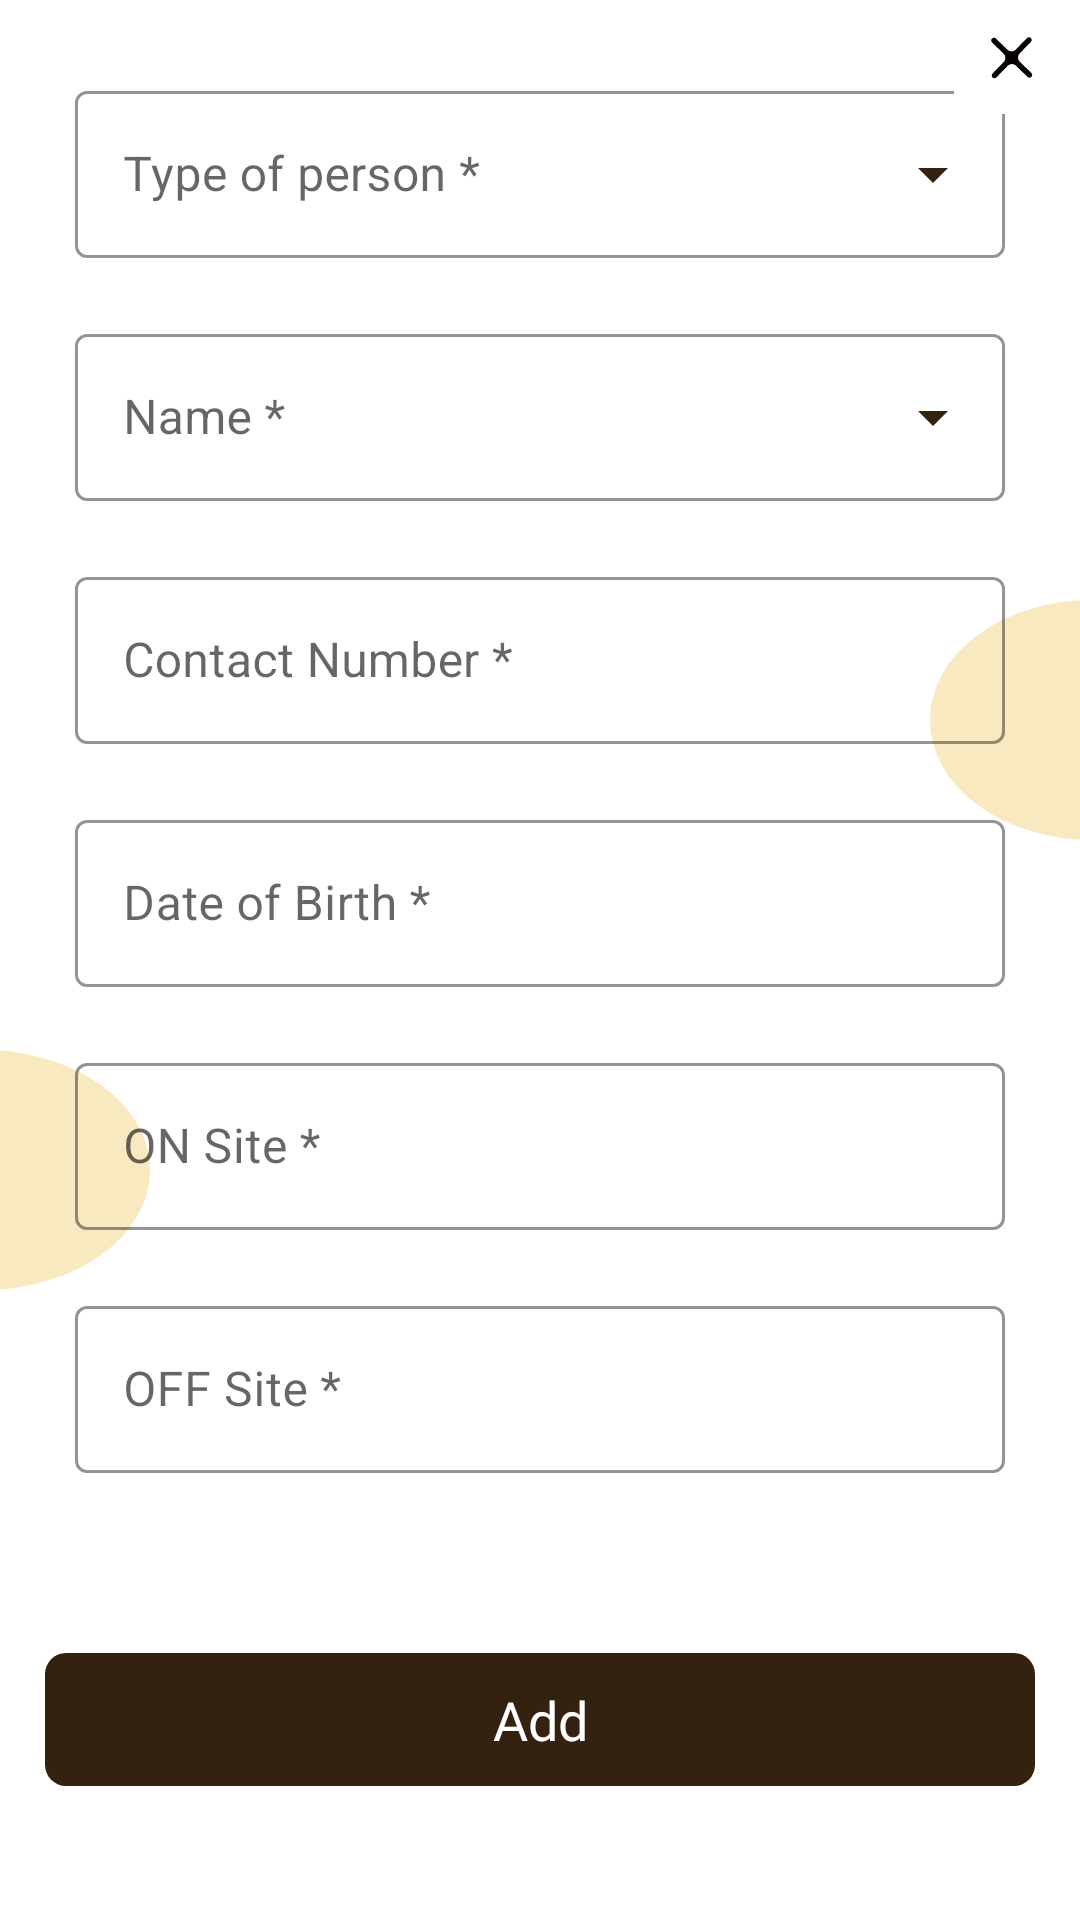

Point at icon controls on the screen. Image size 1080 x 1920, points as point (x, y).
cancel dialog: point (1012, 58)
